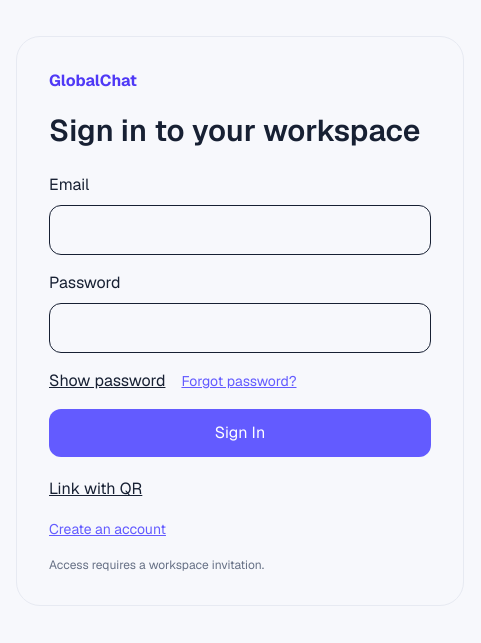
it: keeps wrong-password failure visible without authentication
Click the field labelled "Email" at (240, 230), box [49,205,431,255]
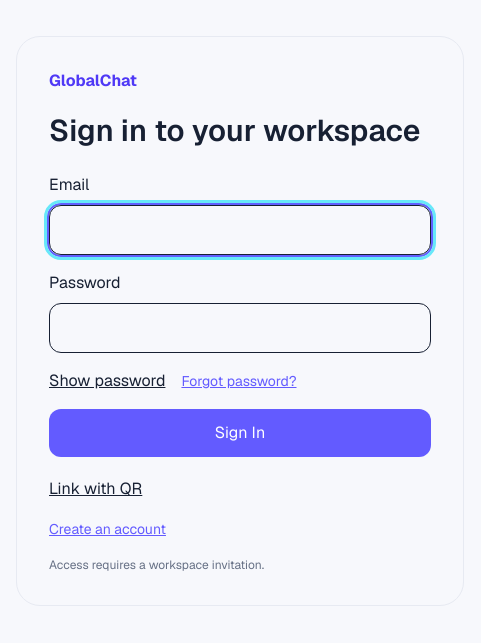
Type keys "employee@example.test"
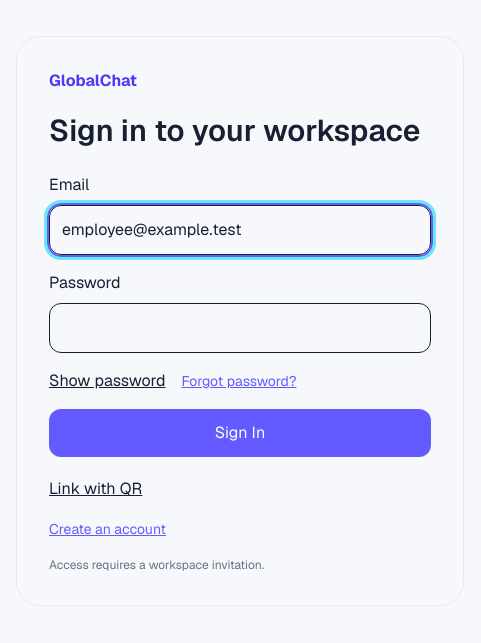
Click the password field labelled "Password" at (240, 328), box [49,303,431,353]
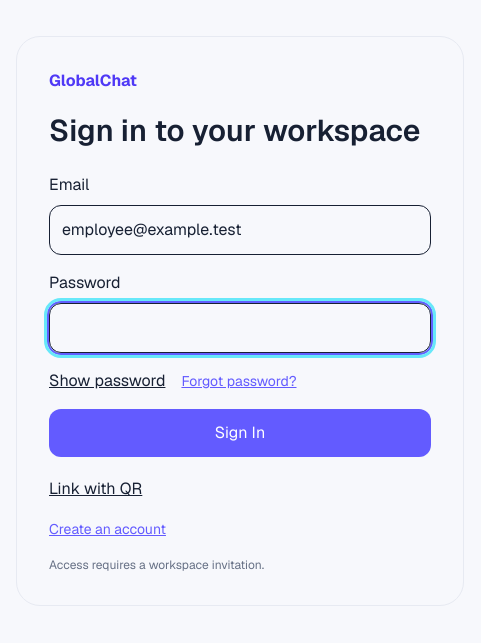
Type keys "wrong password"
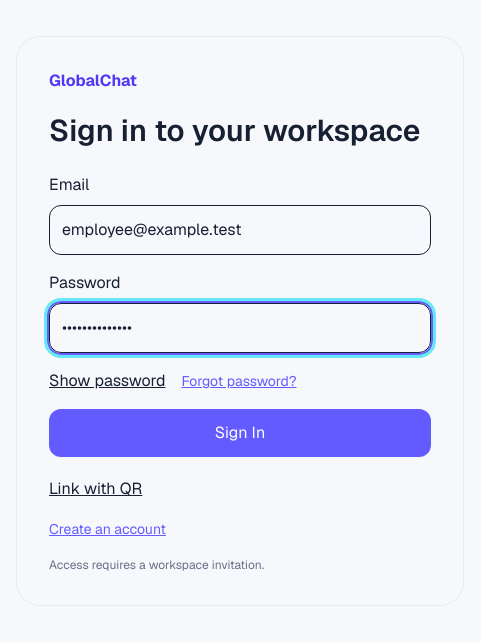
Click the button "Sign In" at (240, 433), box [49,409,431,457]
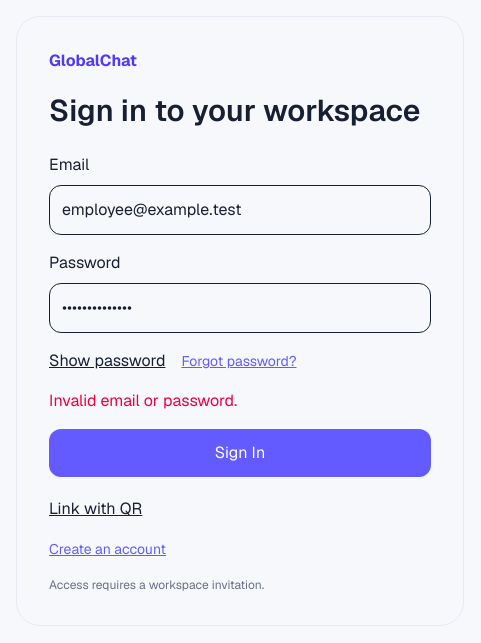
Expected: the message reads "Invalid email or password.", [49,390,237,411]
